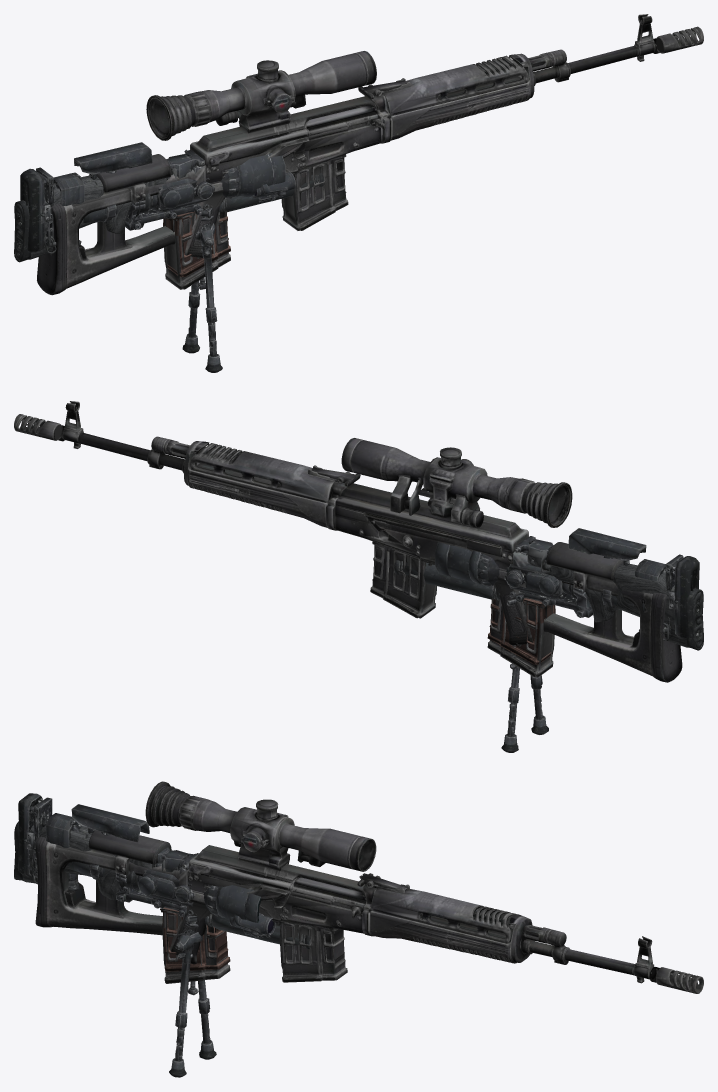
Rendered from berkut.glb.
3 views of the same model, one above another, from view 1: azimuth 30°, elevation 25°; view 2: azimuth 150°, elevation 25°; view 3: azimuth 330°, elevation 25° (orthographic).
Visible parts, largest first — view 1: Berkut_body, optic_factory, stock_factory, stock_sniper_opora, mag_factory, optic_oryol, stock_sniper_izgotovka, rail_upor, optic_znoy, mag_sniper_10, mag_sniper_ap, muzzle_factory (+2 smaller); view 2: Berkut_body, optic_factory, stock_factory, stock_sniper_opora, stock_sniper_izgotovka, mag_factory, optic_oryol, optic_znoy, mag_sniper_10, rail_upor, mag_sniper_ap, muzzle_tishina_s (+1 smaller); view 3: Berkut_body, optic_factory, stock_factory, stock_sniper_opora, mag_factory, optic_oryol, rail_upor, optic_znoy, stock_sniper_izgotovka, mag_sniper_10, mag_sniper_ap, muzzle_factory (+2 smaller).
Part boxes in pixels (x1,y1,x2,y2): Berkut_body: [185, 14, 660, 257]; optic_factory: [146, 51, 376, 140]; stock_factory: [37, 154, 186, 295]; stock_sniper_opora: [20, 142, 204, 252]; mag_factory: [281, 156, 348, 230]; optic_oryol: [83, 153, 285, 230]; stock_sniper_izgotovka: [14, 159, 189, 262]; rail_upor: [182, 207, 222, 372]; optic_znoy: [136, 165, 244, 218]; mag_sniper_10: [163, 211, 230, 289]; mag_sniper_ap: [163, 211, 230, 277]; muzzle_factory: [656, 26, 703, 53]; Berkut_body: [57, 401, 532, 645]; optic_factory: [341, 438, 572, 527]; stock_factory: [532, 542, 682, 682]; stock_sniper_opora: [514, 528, 699, 638]; stock_sniper_izgotovka: [525, 548, 703, 650]; mag_factory: [370, 544, 436, 618]; optic_oryol: [435, 542, 644, 617]; optic_znoy: [468, 550, 583, 606]; mag_sniper_10: [487, 598, 554, 677]; rail_upor: [501, 599, 548, 752]; mag_sniper_ap: [487, 598, 555, 664]; muzzle_tishina_s: [394, 560, 500, 600]; Berkut_body: [171, 845, 659, 983]; optic_factory: [145, 781, 376, 871]; stock_factory: [35, 830, 172, 950]; stock_sniper_opora: [18, 793, 198, 891]; mag_factory: [277, 920, 347, 982]; optic_oryol: [67, 847, 261, 922]; rail_upor: [169, 915, 216, 1077]; optic_znoy: [119, 869, 225, 918]; stock_sniper_izgotovka: [14, 821, 187, 900]; mag_sniper_10: [160, 908, 230, 983]; mag_sniper_ap: [160, 907, 230, 971]; muzzle_factory: [656, 967, 703, 993].
Size of the model in its own units: 1.25 by 0.4841 by 0.1206.
11 materials, 11 textured.
